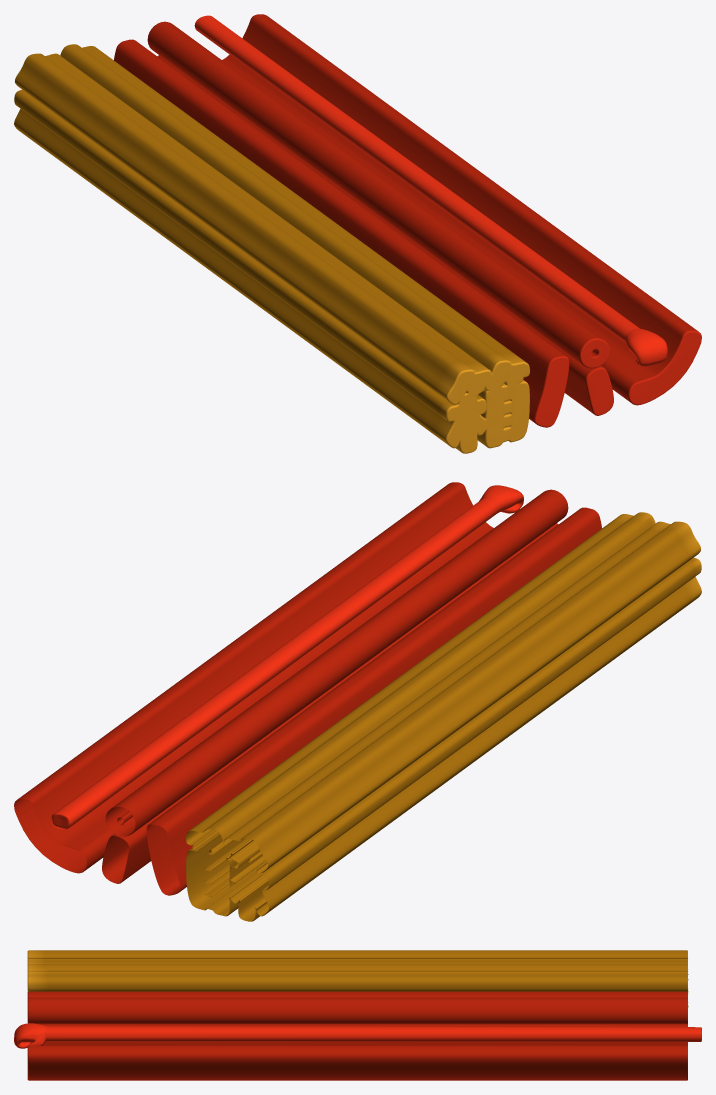
The model's file is titlever2 1.fbx.
The picture shows the model from 3 angles, top to bottom: view 1: azimuth 30°, elevation 25°; view 2: azimuth 150°, elevation 25°; view 3: azimuth 270°, elevation 25°; orthographic projection. The views are drawn at different scales.
Parts seen in each view (by area): view 1: title_hakopan, title_gurobu; view 2: title_hakopan, title_gurobu; view 3: title_hakopan, title_gurobu.
Boxes of the visible parts, x1,y1,x2,y2 form: title_hakopan: (14,14,701,453); title_gurobu: (194,15,667,366); title_hakopan: (14,482,701,921); title_gurobu: (51,485,523,829); title_hakopan: (27,950,688,1080); title_gurobu: (14,1023,701,1048).
Bounding box in the file's own units: 54.86 × 17.44 × 167.
1 material, 1 textured.
